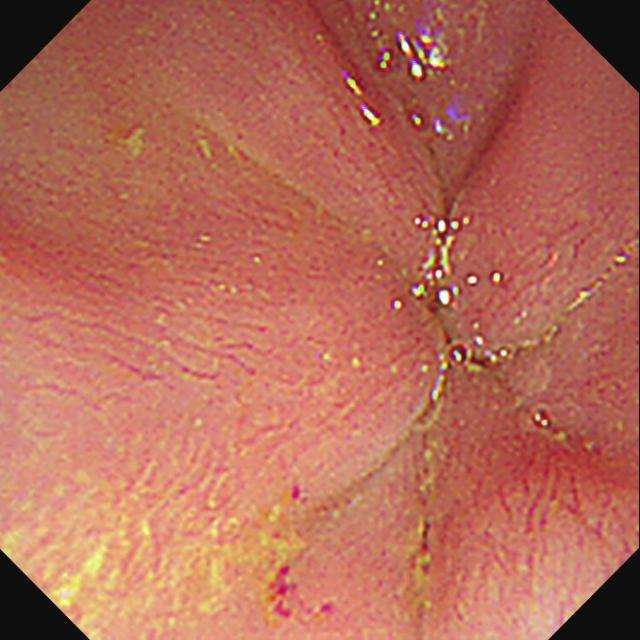T: (437, 333, 513, 379), (530, 406, 559, 435)
U: (391, 212, 503, 314), (379, 32, 452, 81), (345, 75, 382, 128)
